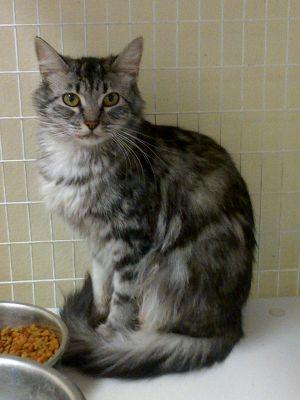bengal: (29, 34, 157, 148)
